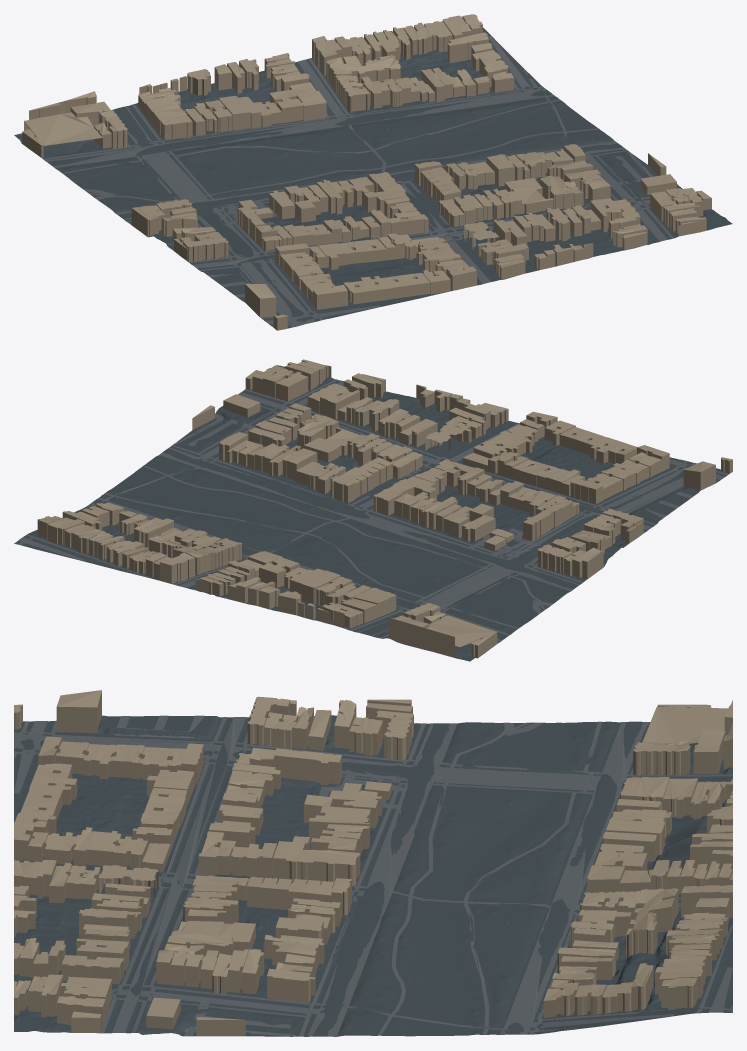
The model's file is epsg26910-1429-10887.lod0.glb.
3 views of the same model, one above another, from view 1: azimuth 30°, elevation 25°; view 2: azimuth 150°, elevation 25°; view 3: azimuth 270°, elevation 25° (orthographic). The views are drawn at different scales.
Visible parts, largest first — view 1: epsg26910-1429-10887-lod0; view 2: epsg26910-1429-10887-lod0; view 3: epsg26910-1429-10887-lod0.
Part boxes in pixels (x1=…): epsg26910-1429-10887-lod0: x1=14, y1=14, x2=732, y2=330; epsg26910-1429-10887-lod0: x1=14, y1=359, x2=732, y2=661; epsg26910-1429-10887-lod0: x1=14, y1=690, x2=732, y2=1036.
Size of the model in its own units: 384 by 28.47 by 384.
